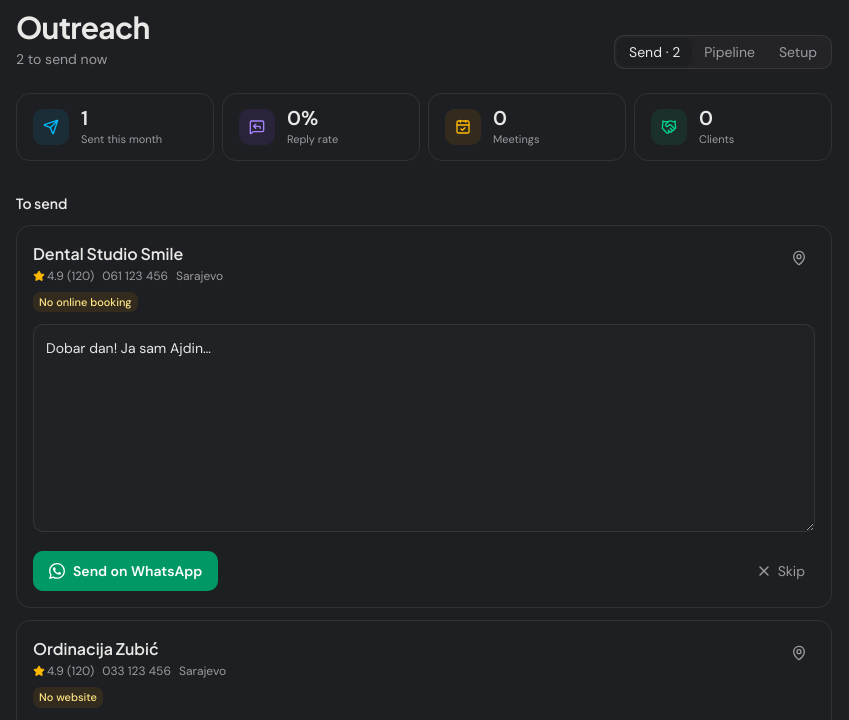
Test case: OutreachView › marks a lead sent when you tap Send on WhatsApp
The image size is (849, 720).
Step 1. Click the link "Send on WhatsApp" → (126, 571), box [33,551,218,591]
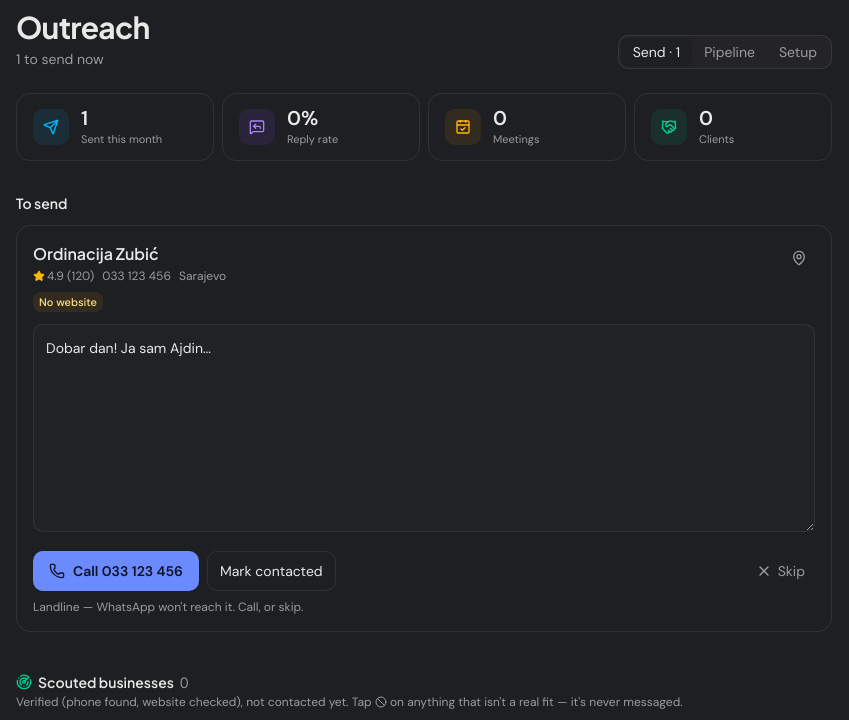
Now the link "Send on WhatsApp" is gone
